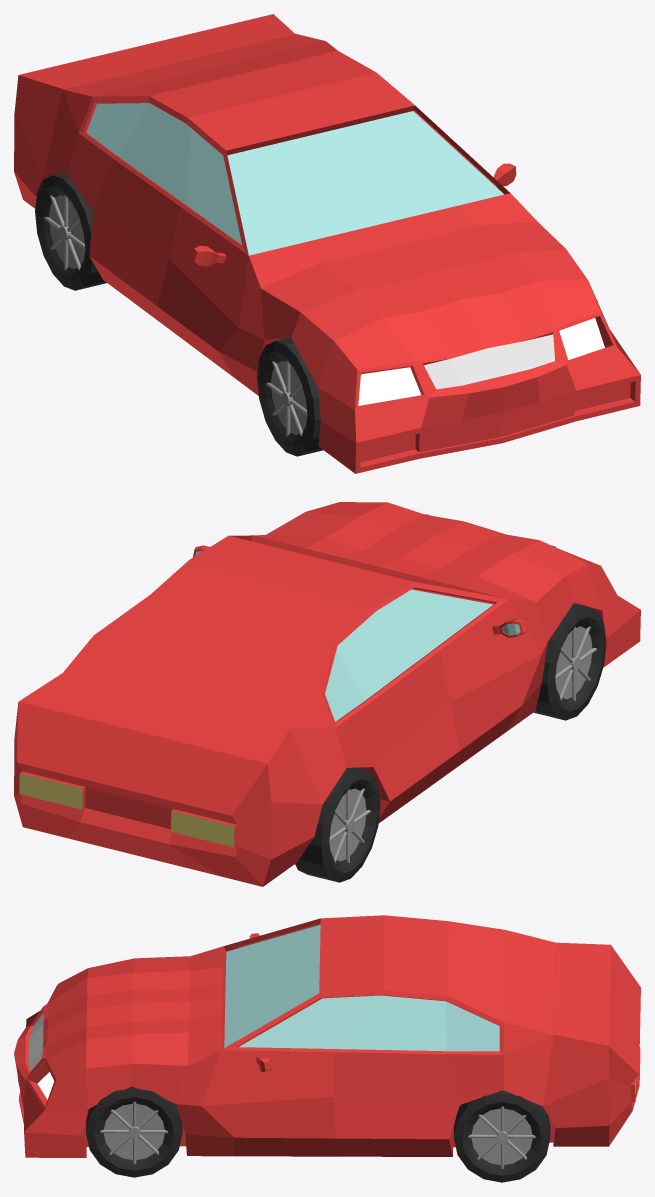
File: car.glb
3 views of the same model, one above another, from view 1: azimuth 30°, elevation 25°; view 2: azimuth 150°, elevation 25°; view 3: azimuth 270°, elevation 25° (orthographic). The views are drawn at different scales.
Parts seen in each view (by area): view 1: Cube.001; view 2: Cube.001; view 3: Cube.001.
Part boxes in pixels (box(x1,y1,x2,y2)): Cube.001: box(14, 14, 640, 473); Cube.001: box(14, 502, 640, 886); Cube.001: box(14, 915, 640, 1182).
Bounding box in the file's own units: 3.91 × 2.38 × 7.88.
